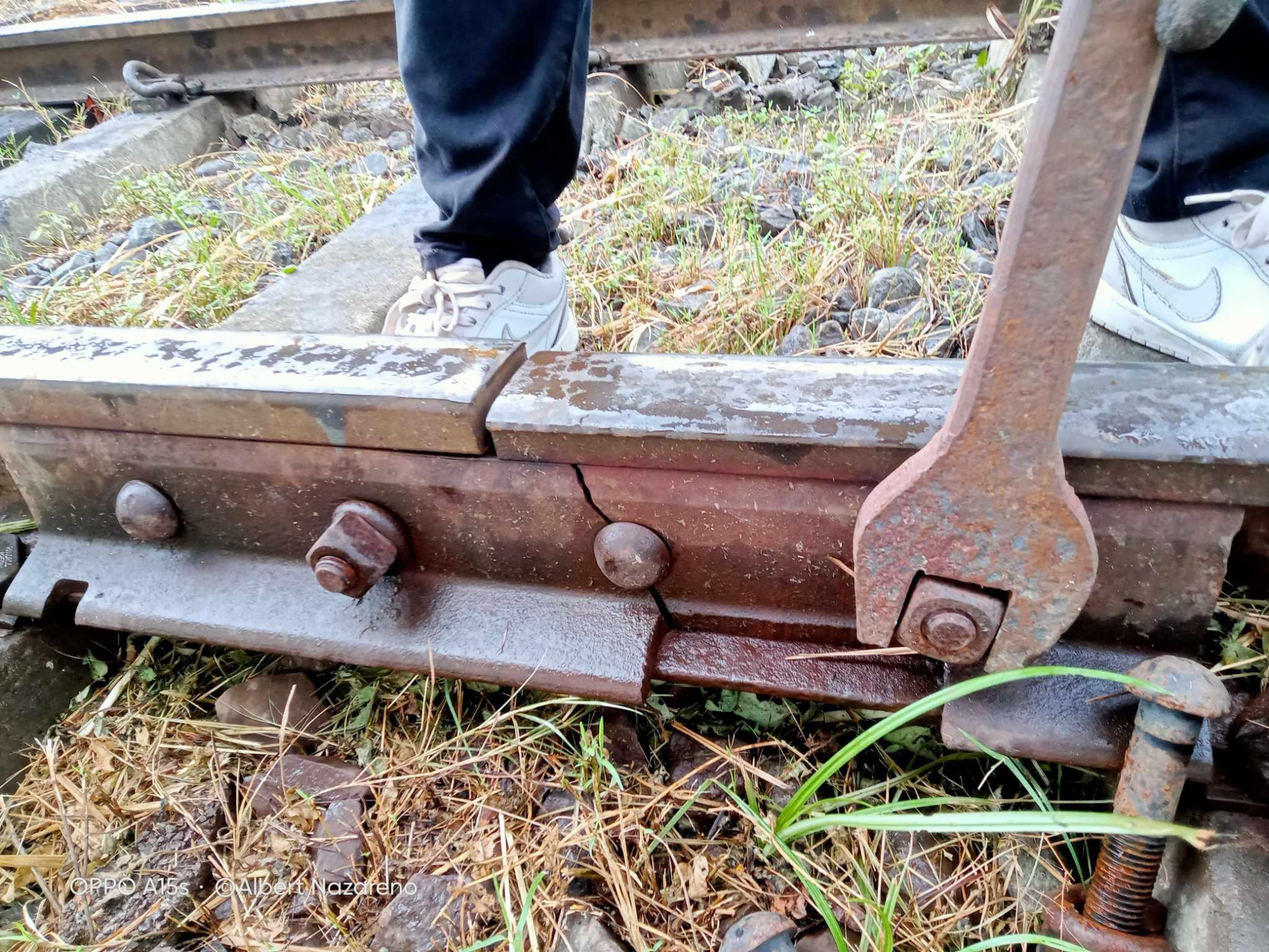railway-gap: (411, 341, 590, 479)
